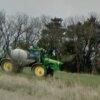Tractor: (8, 40, 60, 83)
